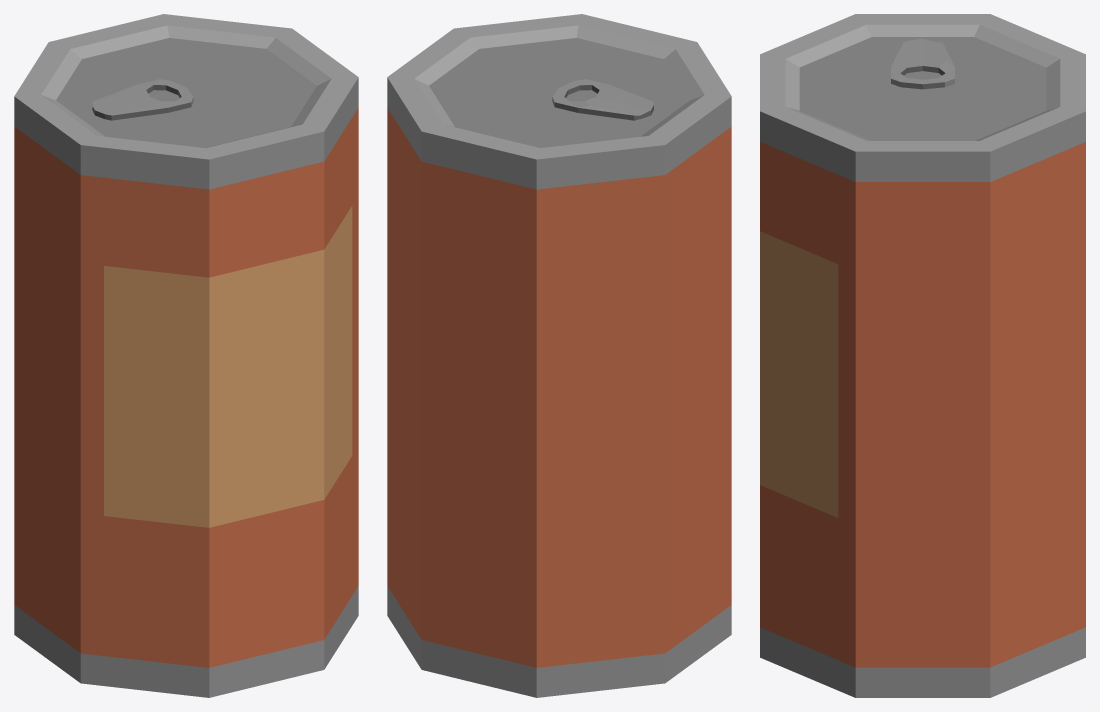
Rendered from CannedFood_08.fbx.
3 views of the same model, side by side, from view 1: azimuth 30°, elevation 25°; view 2: azimuth 150°, elevation 25°; view 3: azimuth 270°, elevation 25° (orthographic).
Visible parts, largest first — view 1: CannedFood_08; view 2: CannedFood_08; view 3: CannedFood_08.
Part boxes in pixels (x1,y1,x2,y2): CannedFood_08: [14, 14, 358, 697]; CannedFood_08: [387, 14, 731, 697]; CannedFood_08: [760, 14, 1085, 697].
Bounding box in the file's own units: 8.91 × 16.5 × 8.91.
